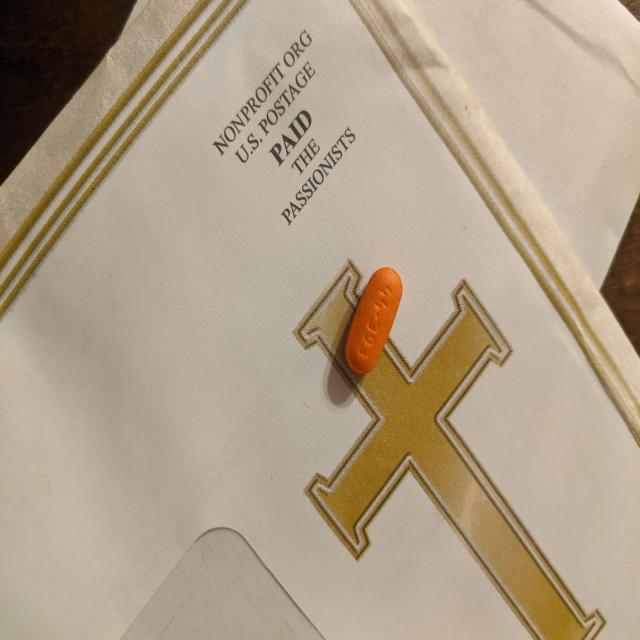non-organic waste: (344, 265, 404, 377)
